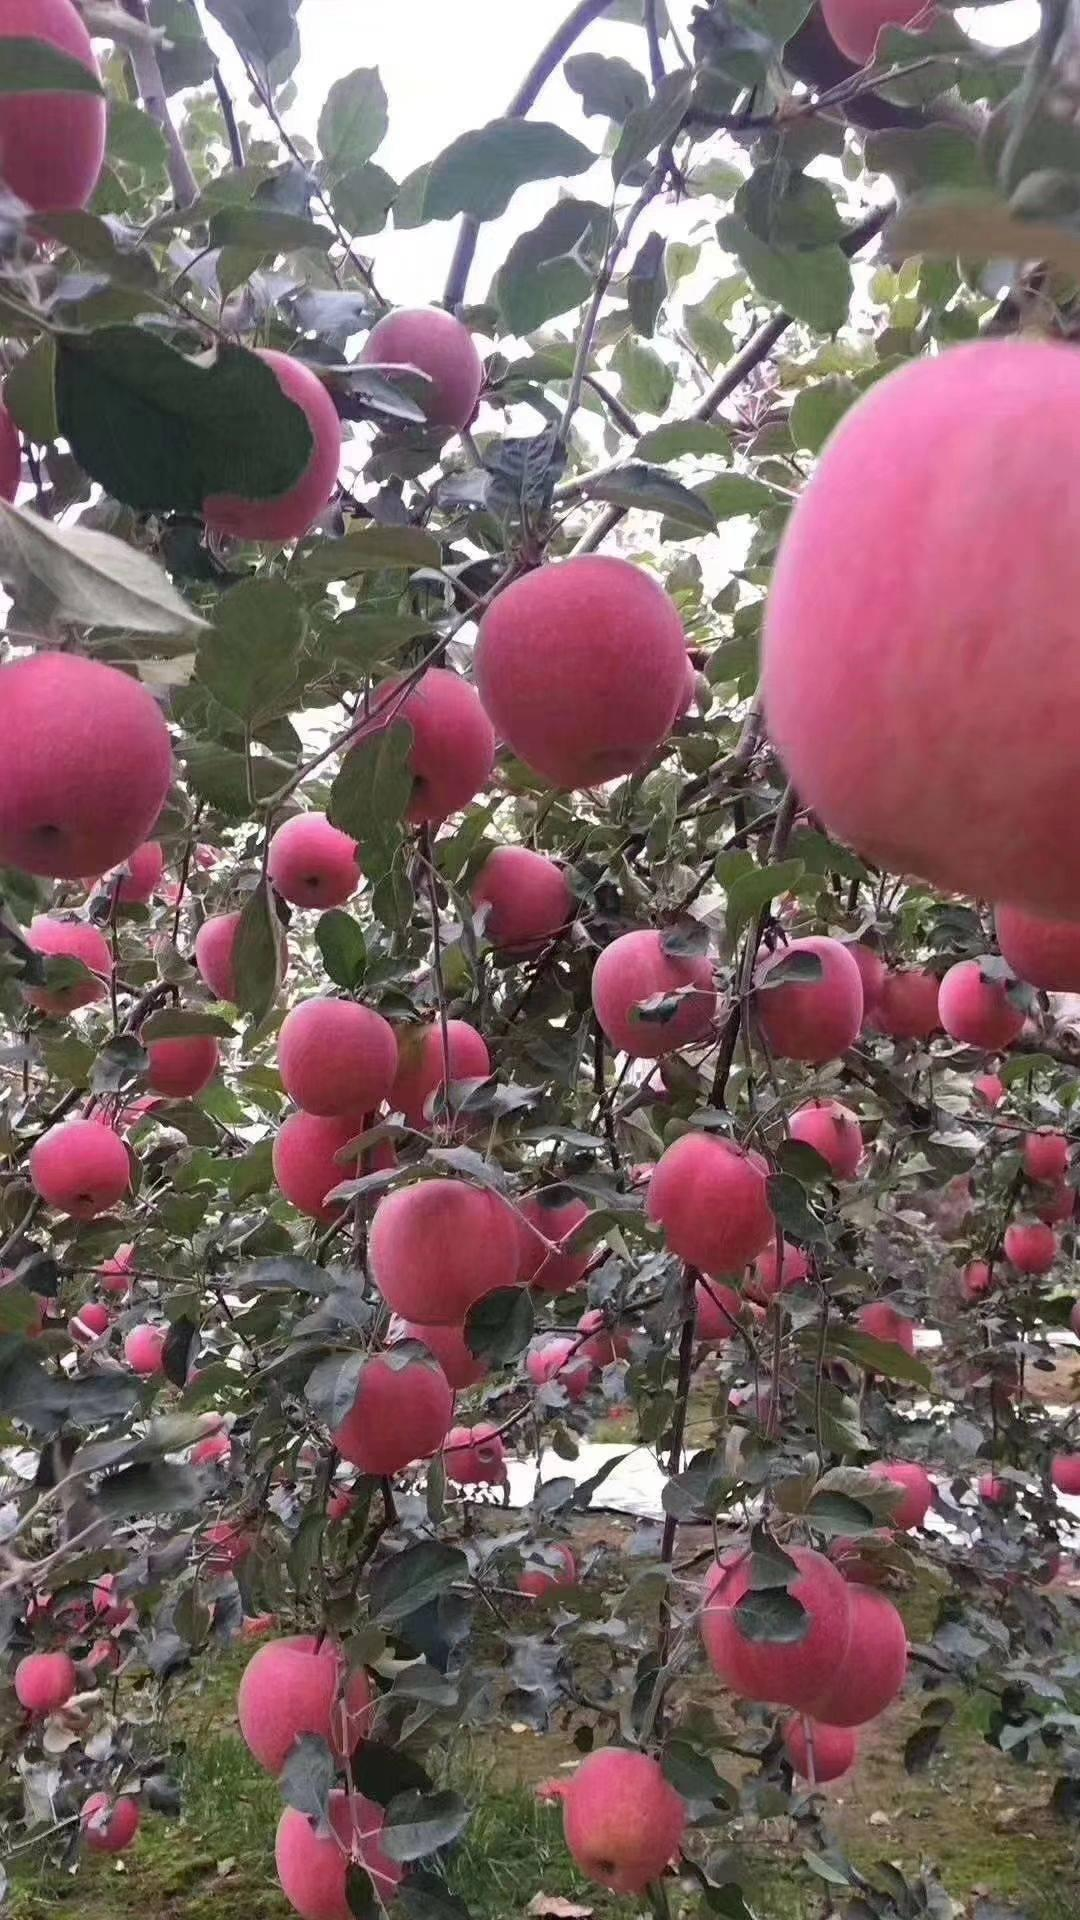apple: (758, 295, 1073, 938), (473, 559, 696, 791), (1, 651, 179, 891), (338, 665, 497, 836), (551, 1749, 688, 1899), (646, 1127, 775, 1284), (593, 922, 727, 1062), (280, 997, 398, 1120), (266, 814, 365, 914), (938, 960, 1027, 1051)
